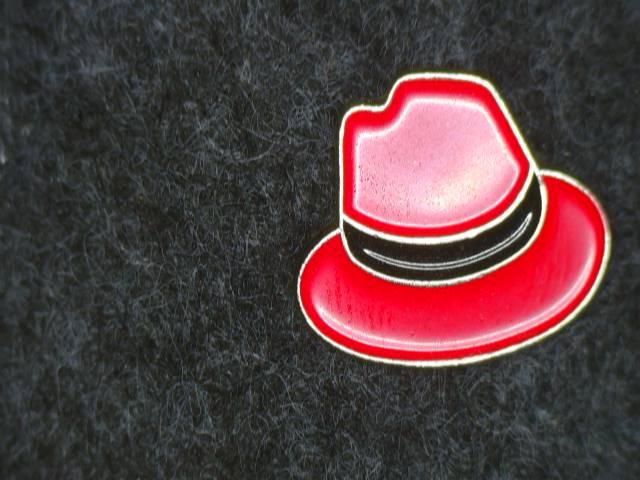Red-Hat: (252, 43, 623, 399)
